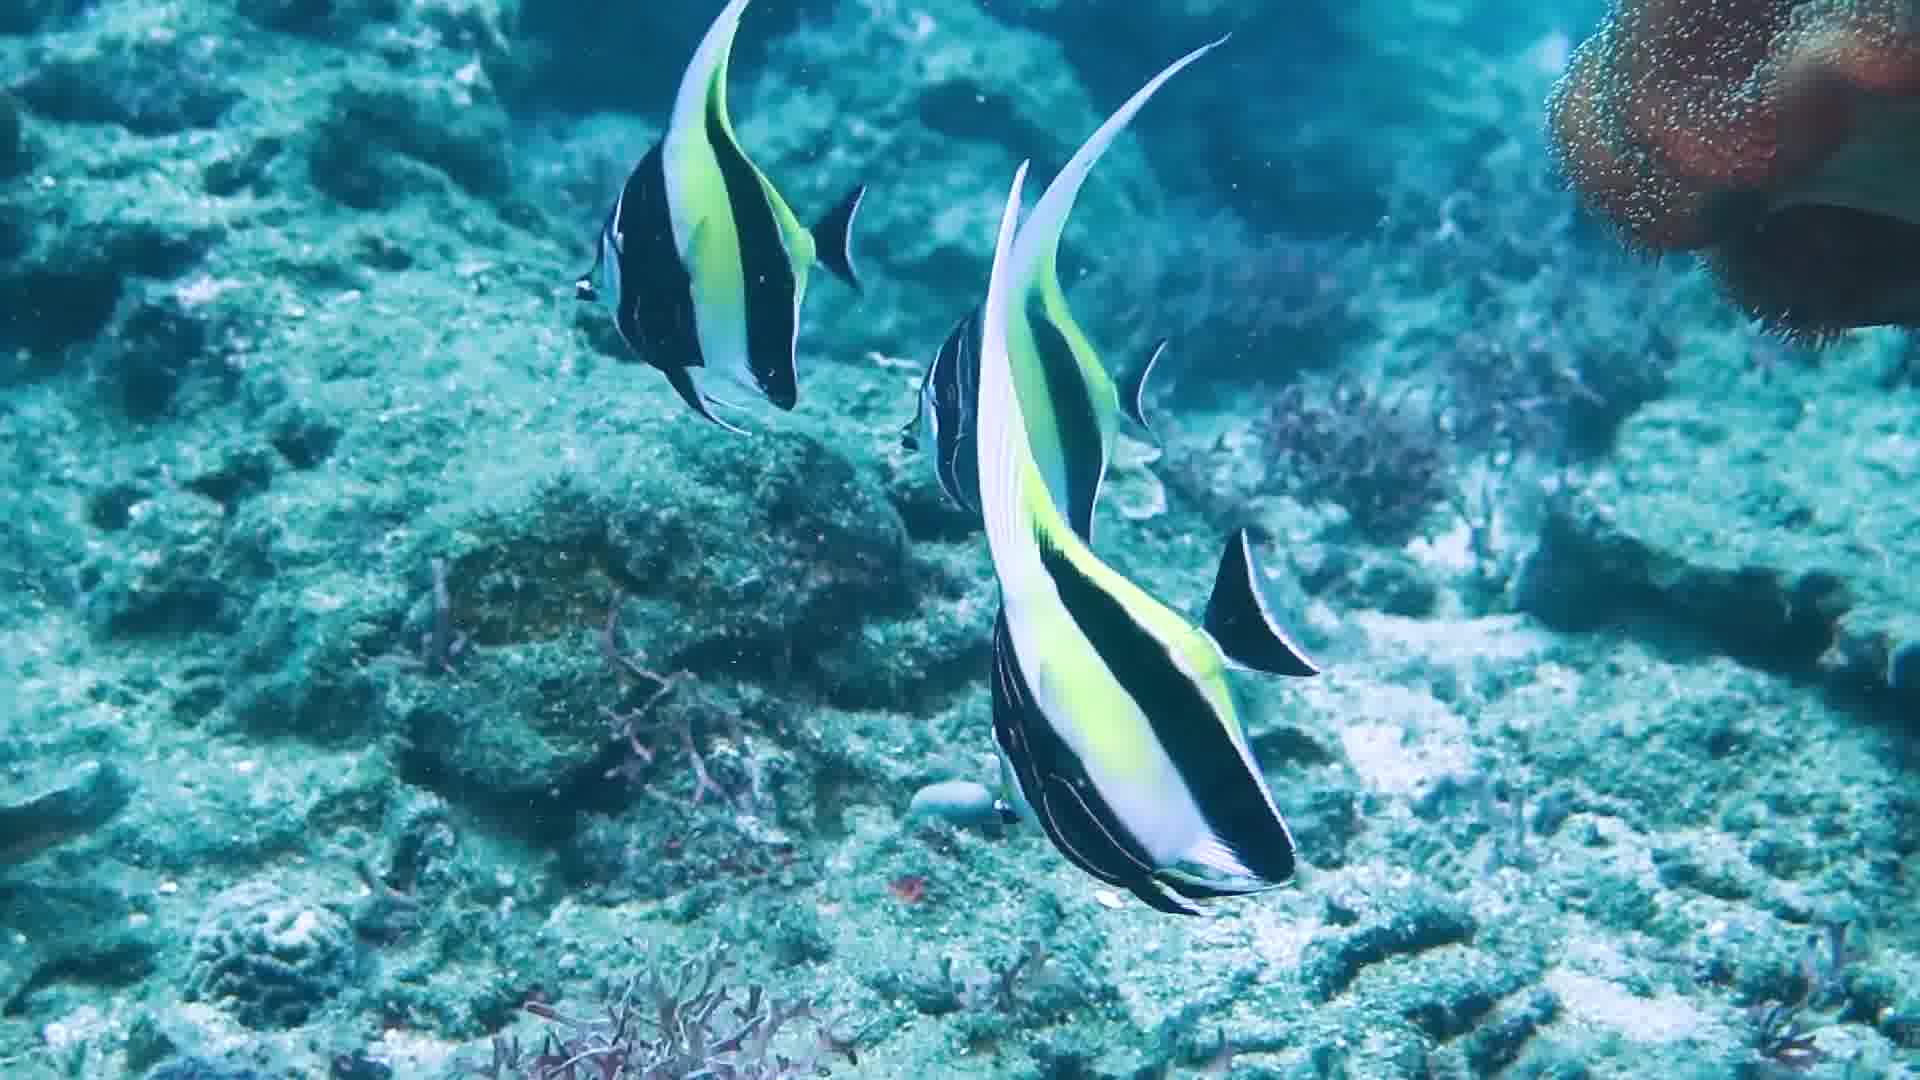Zanclus cornutus: (907, 473, 1309, 895), (582, 74, 897, 433)
